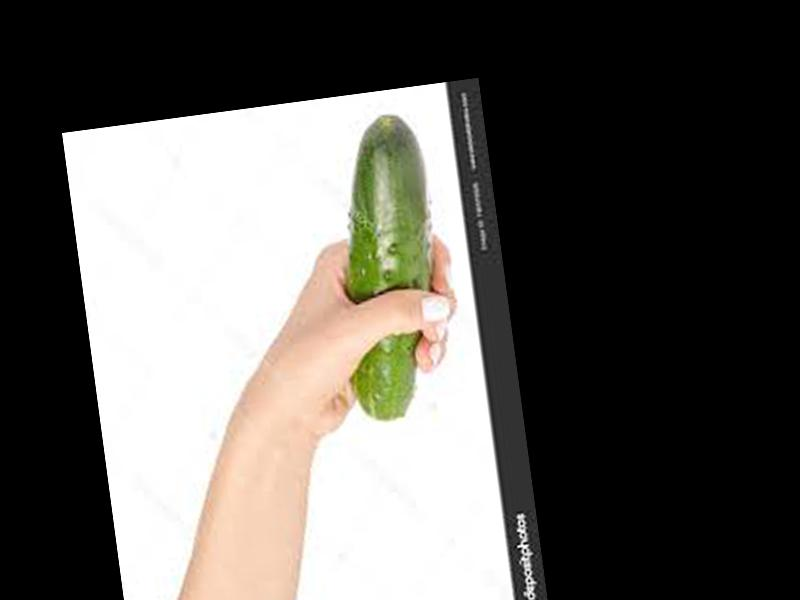Cucumber: (319, 108, 457, 422)
